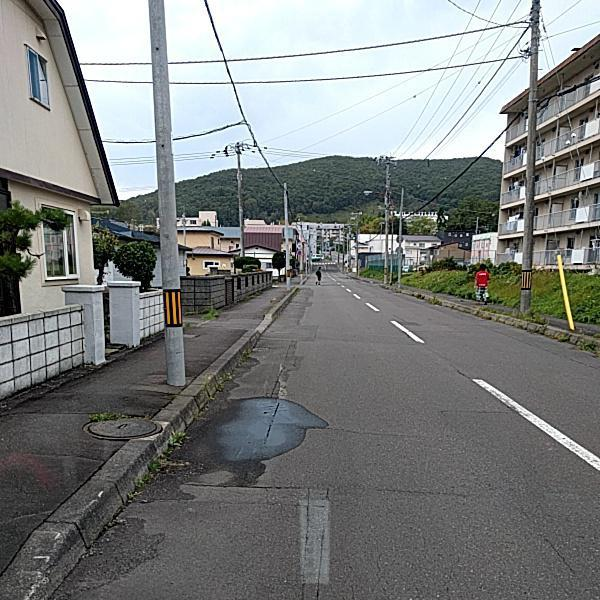D00: (538, 532, 582, 578)
D10: (333, 483, 466, 504), (313, 422, 430, 443)
D44: (474, 381, 599, 467)
D50: (90, 413, 157, 438)
